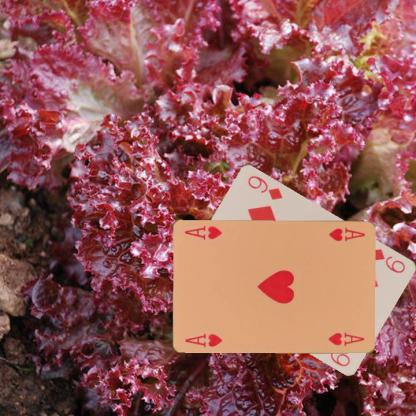9d: (368, 245, 406, 274)
Ah: (182, 330, 224, 349), (326, 224, 366, 242)
